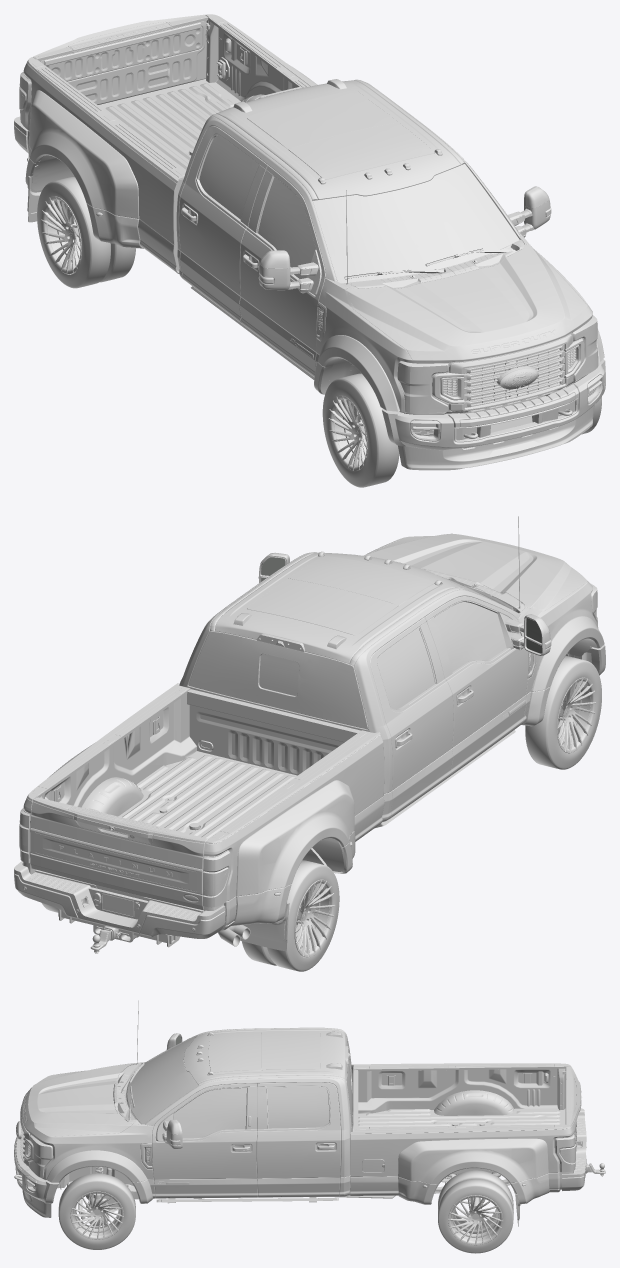
3 renders of one model, top to bottom at view 1: azimuth 30°, elevation 25°; view 2: azimuth 150°, elevation 25°; view 3: azimuth 270°, elevation 25°, orthographic. The views are drawn at different scales.
Parts seen in each view (by area): view 1: bodyshell_SUB5, bonnet_SUB1, windscreen_f_ext, sunroof, bedliner_SUB6, boot_SUB3, bumper_f_SUB4, door_pside_r_SUB0, door_pside_f_SUB0, bodyshell_SUB11, bumper_f_SUB0, wheel_rr.001 (+19 smaller); view 2: bodyshell_SUB5, bedliner_SUB6, sunroof, bonnet_SUB1, windscreen_r_ext, door_pside_f_SUB0, door_pside_r_SUB0, bodyshell_SUB11, boot_SUB0, boot_SUB9, bumper_r_SUB1, windscreen_r_int (+15 smaller); view 3: bodyshell_SUB5, bedliner_SUB6, door_dside_f_SUB0, door_dside_r_SUB0, bonnet_SUB1, sunroof, wheel_lr.001, bodyshell_SUB11, windscreen_f_ext, wheel_lf.001, window_lr_int, window_lf_int (+19 smaller).
Part boxes in pixels (x1,y1,x2,y2): bodyshell_SUB5: (23,62,604,411); bonnet_SUB1: (345,244,590,363); windscreen_f_ext: (312,164,519,283); sunroof: (247,90,434,179); bedliner_SUB6: (98,20,296,179); boot_SUB3: (37,17,208,104); bumper_f_SUB4: (398,374,602,470); door_pside_r_SUB0: (179,126,267,323); door_pside_f_SUB0: (239,165,325,377); bodyshell_SUB11: (23,14,576,396); bumper_f_SUB0: (382,359,605,450); wheel_rr.001: (37,176,135,288); bodyshell_SUB5: (23,537,604,930); bedliner_SUB6: (40,689,360,907); sunroof: (247,556,434,635); bonnet_SUB1: (363,533,589,610); windscreen_r_ext: (189,631,368,729); door_pside_f_SUB0: (425,596,528,775); door_pside_r_SUB0: (370,617,453,817); bodyshell_SUB11: (23,554,591,910); boot_SUB0: (30,801,204,910); boot_SUB9: (30,828,202,894); bumper_r_SUB1: (14,861,225,933); windscreen_r_int: (188,632,367,728); bodyshell_SUB5: (43,1027,573,1204); bedliner_SUB6: (353,1066,566,1133); door_dside_f_SUB0: (152,1083,257,1198); door_dside_r_SUB0: (256,1082,340,1197); bonnet_SUB1: (21,1063,132,1142); sunroof: (208,1032,320,1072); wheel_lr.001: (438,1170,513,1253); bodyshell_SUB11: (27,1034,573,1189); windscreen_f_ext: (127,1036,198,1124); wheel_lf.001: (58,1173,135,1249); window_lr_int: (267,1087,329,1128); window_lf_int: (173,1088,246,1138).
Size of the model in its own units: 2.72 by 2.39 by 6.99.
Materials: 16 (1 with a texture image).
